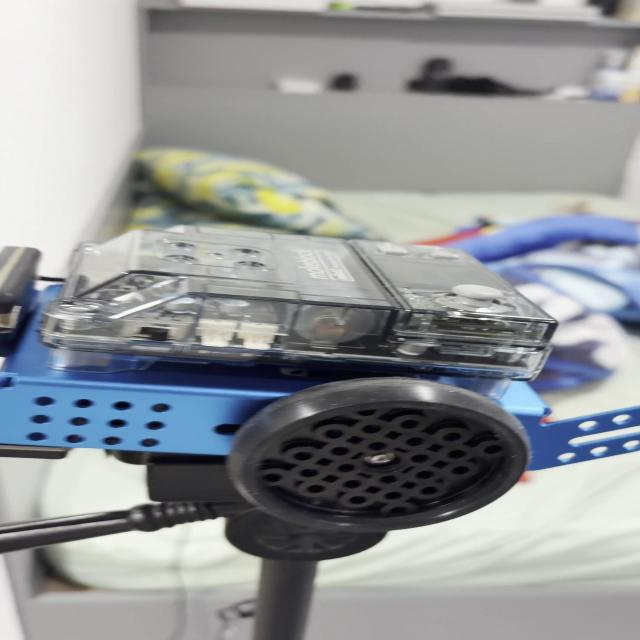mbot-detection: (0, 218, 640, 542)
